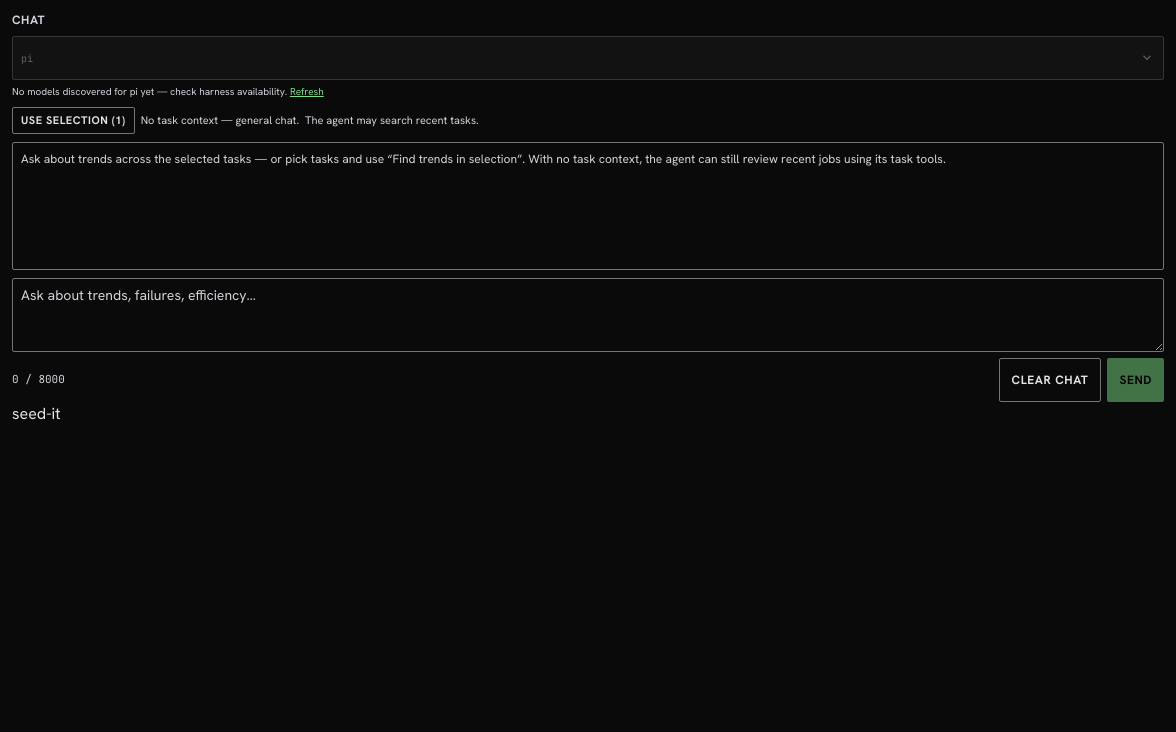
Scenario: RetrospectiveChat › sends a stateless turn and renders the reply with suggestions
Click the button "Use selection (1)" at (73, 120), box x1=12 y1=107 x2=135 y2=134
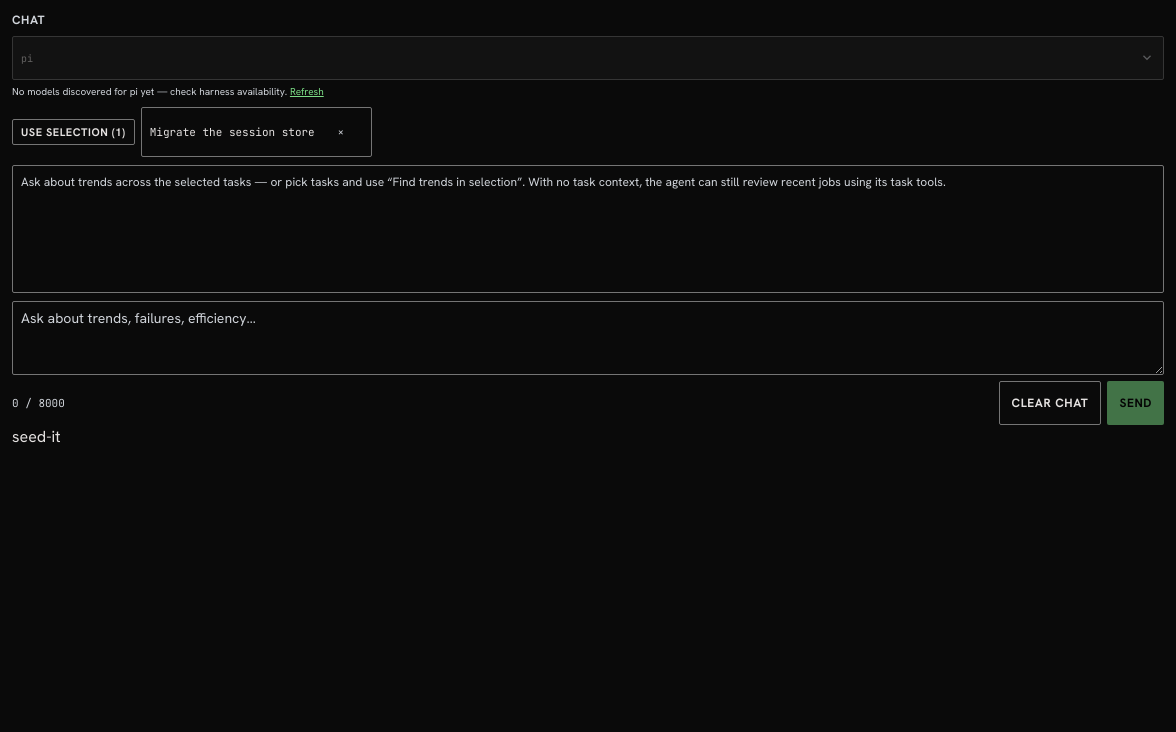
Type "What failed recently?" into the text box with test id "retrospective-chat-input" at (588, 338), box x1=12 y1=301 x2=1164 y2=375
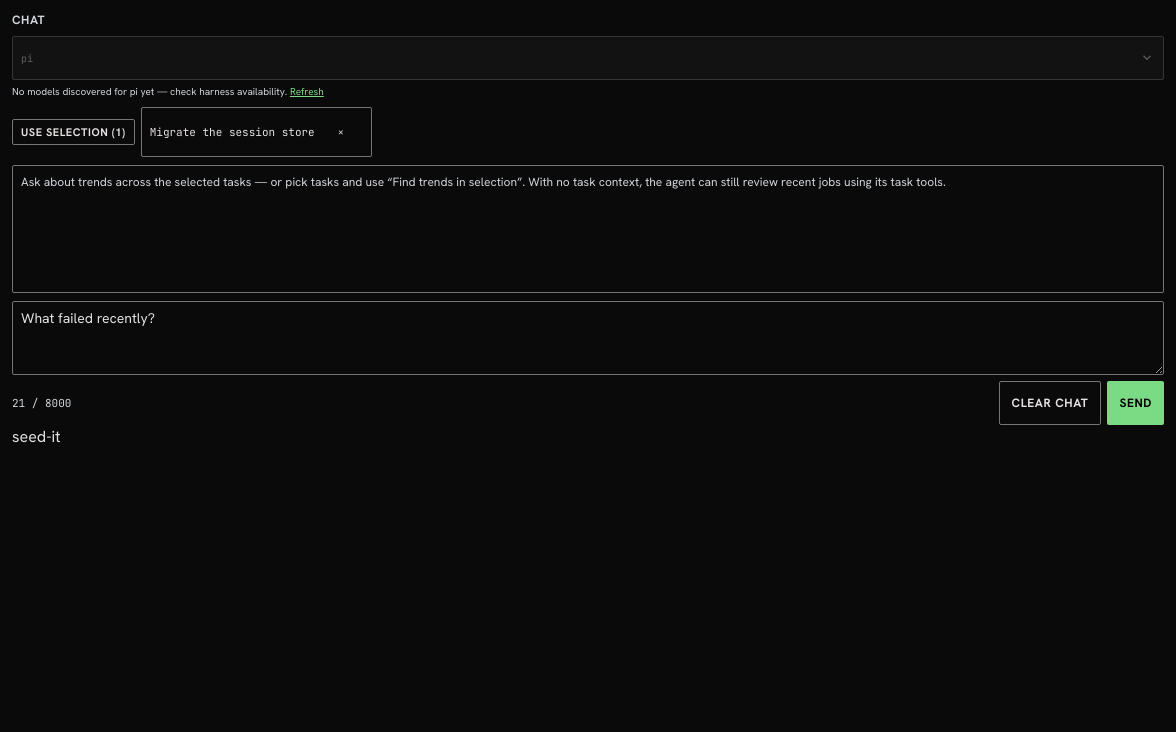
Click the button with test id "retrospective-chat-send" at (1136, 403), box x1=1107 y1=381 x2=1164 y2=425
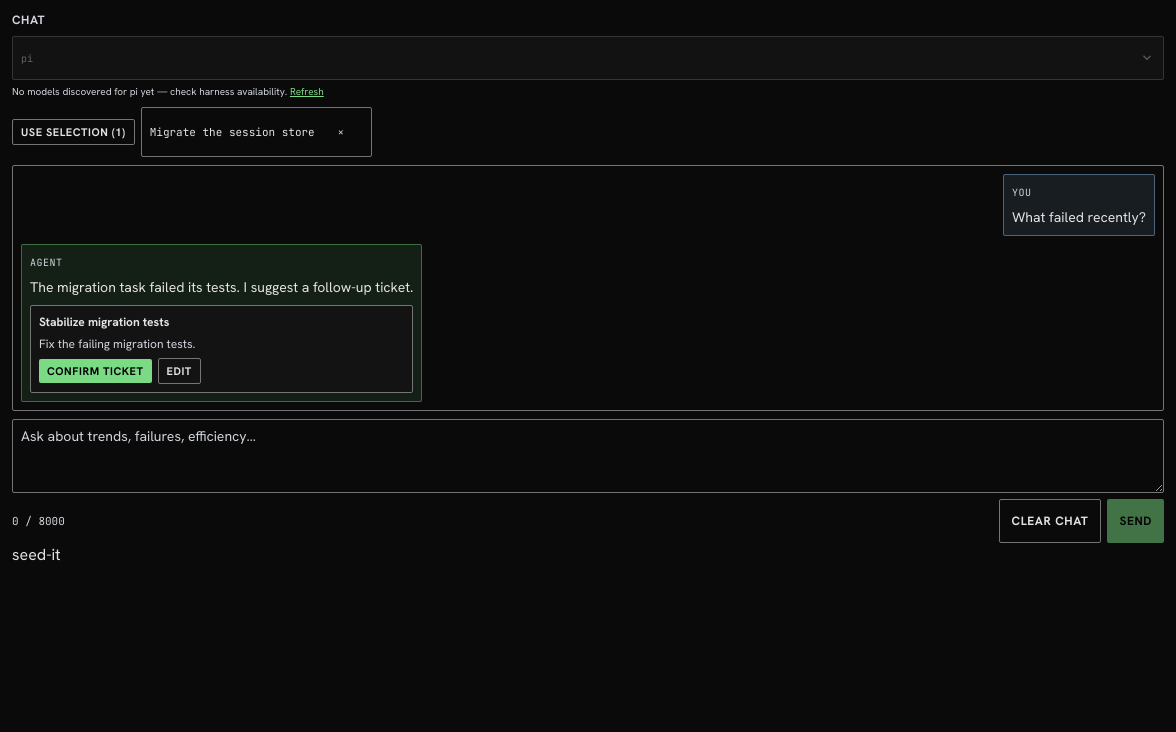
Expected: the element with test id "retrospective-chat-message-1" shows "The migration task failed its tests.", x1=30 y1=278 x2=413 y2=296
Expected: the list item with test id "retrospective-suggestion-1:0" shows "Stabilize migration tests", x1=39 y1=314 x2=169 y2=330
